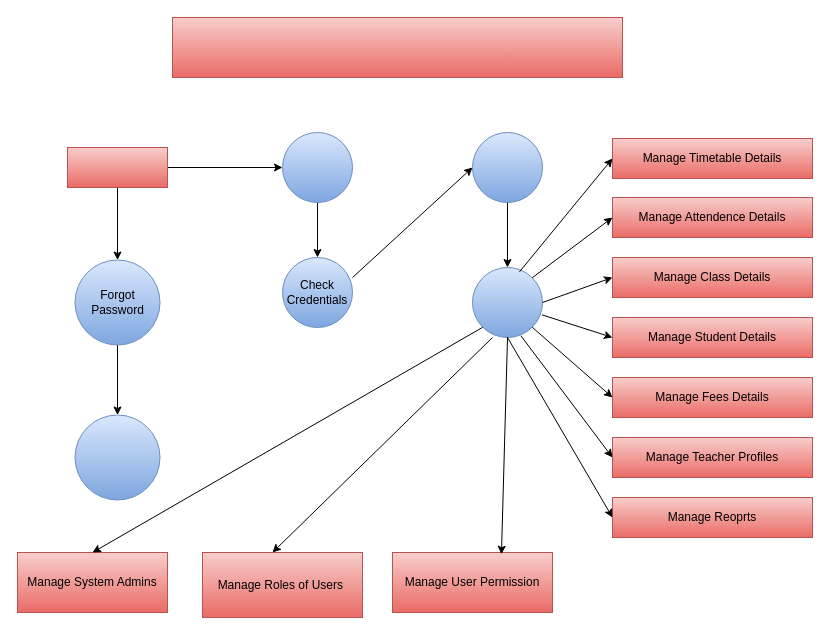
Image size: 830x635. Some labels were removed from this diagram. The centre of each missing label's shape, as x and y in pixels:
"Admin" goes at point 117,167.
"Check Roles of Access" goes at point 507,167.
"Login to System" goes at point 317,167.
"Manage Modules" goes at point 507,302.
"Send Email To User" goes at point 117,457.
"Student Information System" goes at point 397,47.
